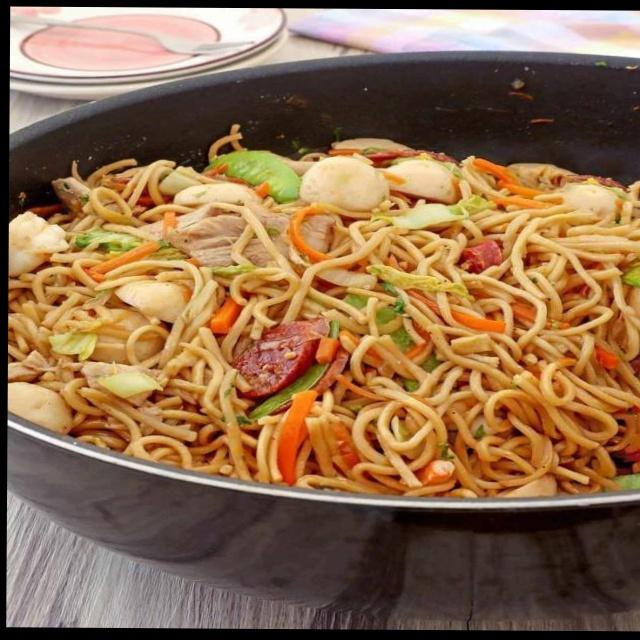pancit bihon: (3, 149, 639, 498)
